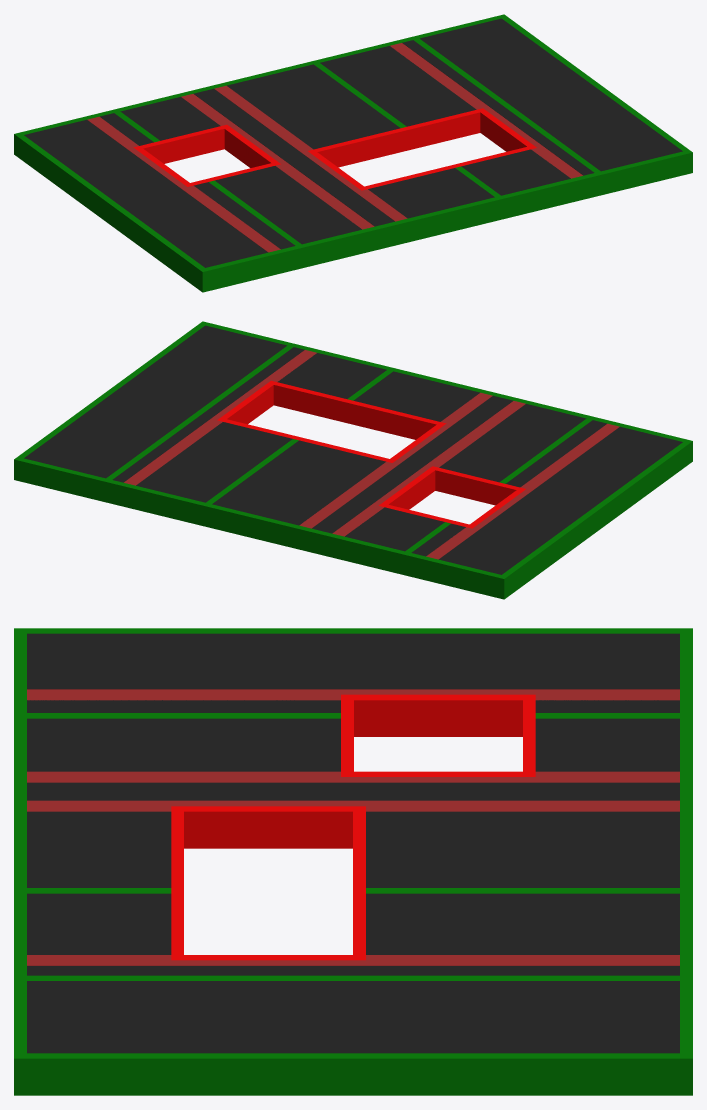
File: wall-two-openings.glb
3 views of the same model, one above another, from view 1: azimuth 30°, elevation 25°; view 2: azimuth 150°, elevation 25°; view 3: azimuth 270°, elevation 25° (orthographic). The views are drawn at different scales.
Visible parts, largest first — view 1: shape_48, shape_10, shape_39, shape_43, shape_45, shape_41, shape_6, shape_17, shape_42, shape_44, shape_47, shape_40 (+20 smaller); view 2: shape_48, shape_9, shape_39, shape_43, shape_45, shape_41, shape_6, shape_18, shape_42, shape_44, shape_47, shape_40 (+20 smaller); view 3: shape_48, shape_39, shape_8, shape_43, shape_45, shape_41, shape_42, shape_44, shape_47, shape_40, shape_19, shape_21 (+29 smaller).
Boxes of the visible parts, x1,y1,x2,y2 form: shape_48: [420, 18, 682, 171]; shape_10: [199, 150, 692, 292]; shape_39: [24, 119, 267, 267]; shape_43: [227, 64, 400, 149]; shape_45: [320, 46, 476, 126]; shape_41: [215, 166, 361, 244]; shape_6: [17, 135, 204, 289]; shape_17: [308, 108, 486, 167]; shape_42: [193, 88, 394, 226]; shape_44: [368, 168, 494, 218]; shape_47: [461, 149, 570, 195]; shape_40: [120, 97, 220, 140]; shape_48: [24, 325, 286, 478]; shape_9: [14, 457, 507, 599]; shape_39: [439, 426, 682, 574]; shape_43: [212, 440, 385, 525]; shape_45: [136, 422, 292, 502]; shape_41: [439, 404, 586, 482]; shape_6: [502, 442, 689, 596]; shape_18: [268, 380, 446, 439]; shape_42: [312, 395, 513, 533]; shape_44: [353, 371, 479, 421]; shape_47: [277, 353, 386, 398]; shape_40: [345, 507, 444, 551]; shape_48: [27, 981, 679, 1053]; shape_39: [27, 633, 679, 689]; shape_8: [27, 1053, 679, 1095]; shape_43: [366, 811, 679, 887]; shape_45: [366, 893, 679, 954]; shape_41: [27, 718, 340, 771]; shape_42: [27, 782, 679, 800]; shape_44: [27, 811, 171, 887]; shape_47: [27, 893, 171, 954]; shape_40: [535, 718, 679, 771]; shape_19: [354, 694, 522, 736]; shape_21: [184, 806, 352, 848].
Size of the model in its own units: 3000 by 120 by 2000.
